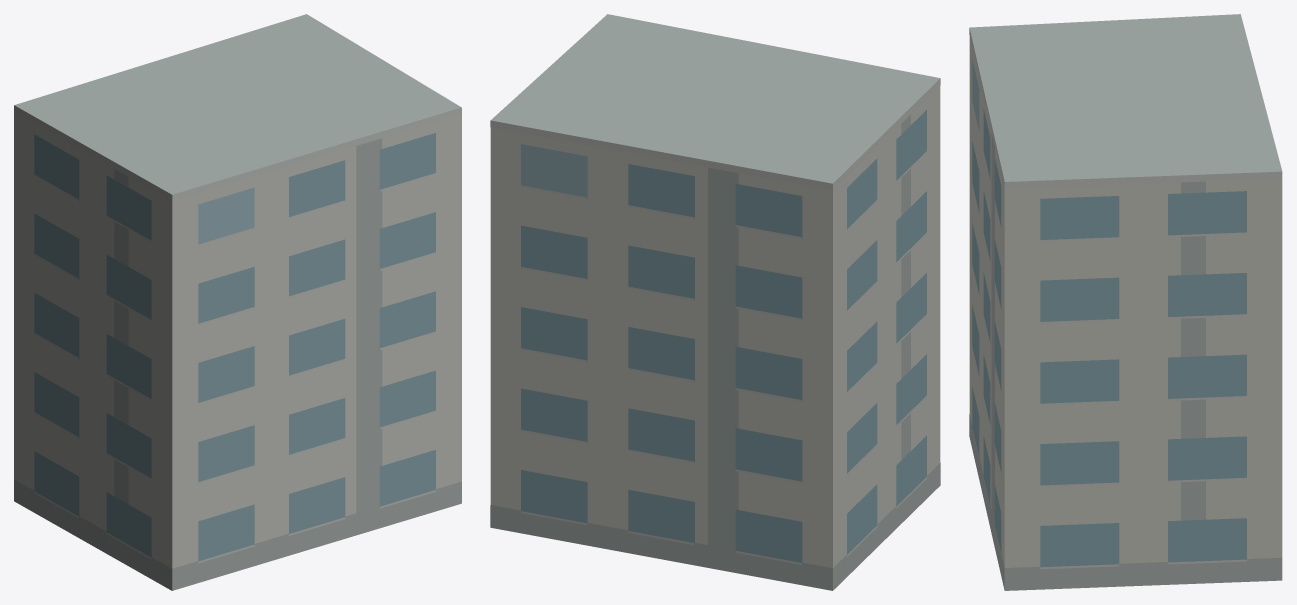
The model's file is survey-upis-32851241.glb.
3 renders of one model, left to right at view 1: azimuth 30°, elevation 25°; view 2: azimuth 150°, elevation 25°; view 3: azimuth 270°, elevation 25°, orthographic. The views are drawn at different scales.
Visible parts, largest first — view 1: survey-upis-32851241.tmp; view 2: survey-upis-32851241.tmp; view 3: survey-upis-32851241.tmp.
Part boxes in pixels (left/top/right/bottom): survey-upis-32851241.tmp: left=14, top=14, right=461, bottom=590; survey-upis-32851241.tmp: left=490, top=14, right=940, bottom=590; survey-upis-32851241.tmp: left=969, top=14, right=1282, bottom=590.
Size of the model in its own units: 12.52 by 14.2 by 9.86.
